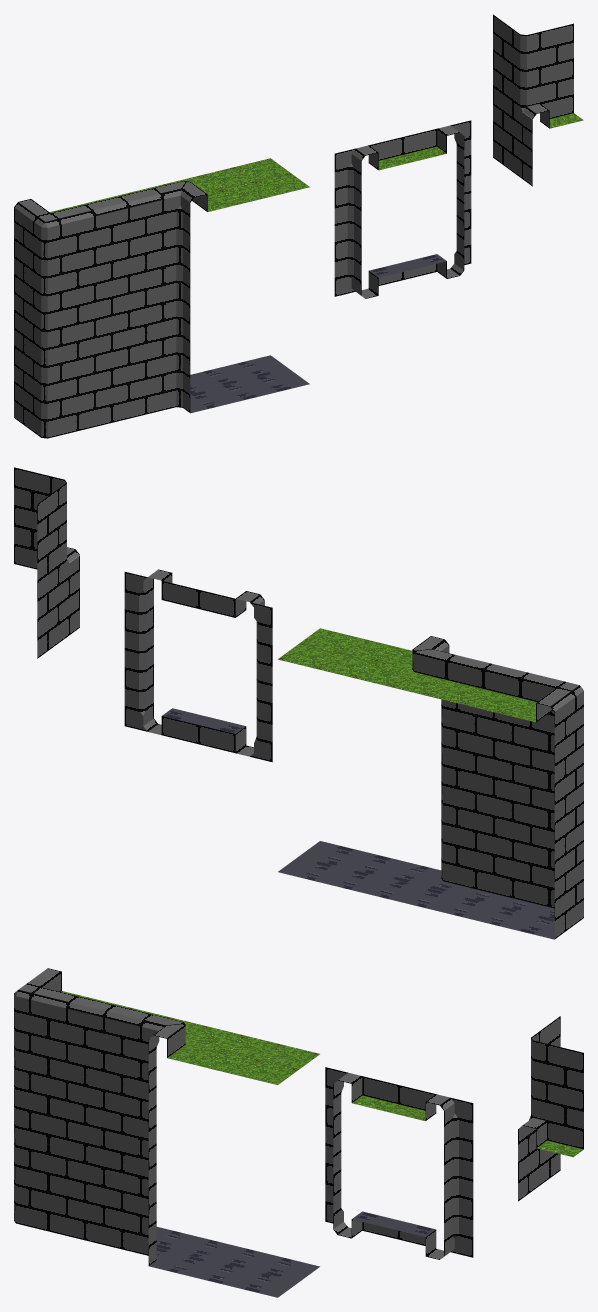
The model's file is cubeass.glb.
3 views of the same model, one above another, from view 1: azimuth 30°, elevation 25°; view 2: azimuth 150°, elevation 25°; view 3: azimuth 330°, elevation 25° (orthographic). The views are drawn at different scales.
Parts seen in each view (by area): view 1: grass_corner_V_F -col, V_I.013 -col, outer_brick_corner -col, floor_corner_V_F -col, V_I -col, V_I - col, floor D_F -col, V_I.014 -col, grass_corner_V_E -col, floor_corner_v_e -col, V_I.009 -col, V_I.011 -col (+5 smaller); view 2: floor D_F -col, V_I - col, V_I -col, floor_corner_V_F -col, grass_corner_V_F -col, V_I.013 -col, floor_corner_v_e -col, outer_brick_corner -col, grass_corner_V_E -col, V_I.014 -col, V_I.012 -col, V_I.010 -col (+5 smaller); view 3: V_I -col, floor D_F -col, V_I - col, grass_corner_V_F -col, V_I.013 -col, grass_corner_V_E -col, floor_corner_v_e -col, outer_brick_corner -col, floor_corner_V_F -col, V_I.010 -col, V_I.014 -col, V_I.012 -col (+5 smaller).
Part boxes in pixels (<box>): grass_corner_V_F -col: <box>14,199,94,295</box>; V_I.013 -col: <box>493,14,573,106</box>; outer_brick_corner -col: <box>14,275,94,366</box>; floor_corner_V_F -col: <box>14,346,94,438</box>; V_I -col: <box>66,188,163,283</box>; V_I - col: <box>95,267,163,355</box>; floor D_F -col: <box>95,339,163,426</box>; V_I.014 -col: <box>493,86,583,186</box>; grass_corner_V_E -col: <box>134,175,241,269</box>; floor_corner_v_e -col: <box>163,335,241,413</box>; V_I.009 -col: <box>334,137,412,227</box>; V_I.011 -col: <box>334,222,412,298</box>; floor D_F -col: <box>425,807,530,925</box>; V_I - col: <box>457,730,530,825</box>; V_I -col: <box>425,654,530,747</box>; floor_corner_V_F -col: <box>499,825,583,939</box>; grass_corner_V_F -col: <box>499,672,583,784</box>; V_I.013 -col: <box>14,467,66,581</box>; floor_corner_v_e -col: <box>352,801,457,907</box>; outer_brick_corner -col: <box>531,748,583,861</box>; grass_corner_V_E -col: <box>351,636,457,729</box>; V_I.014 -col: <box>14,544,79,658</box>; V_I.012 -col: <box>124,646,208,744</box>; V_I.010 -col: <box>124,569,198,652</box>; V_I -col: <box>67,996,171,1099</box>; floor D_F -col: <box>67,1158,172,1253</box>; V_I - col: <box>67,1081,140,1176</box>; grass_corner_V_F -col: <box>14,968,98,1081</box>; V_I.013 -col: <box>531,1016,583,1129</box>; grass_corner_V_E -col: <box>140,1014,245,1110</box>; floor_corner_v_e -col: <box>140,1177,246,1279</box>; outer_brick_corner -col: <box>14,1066,66,1158</box>; floor_corner_V_F -col: <box>14,1144,66,1235</box>; V_I.010 -col: <box>389,1085,473,1183</box>; V_I.014 -col: <box>518,1115,583,1201</box>; V_I.012 -col: <box>389,1177,473,1259</box>.
Bounding box in the file's own units: 15.5 × 8 × 2.
Materials: 1 (1 with a texture image).
